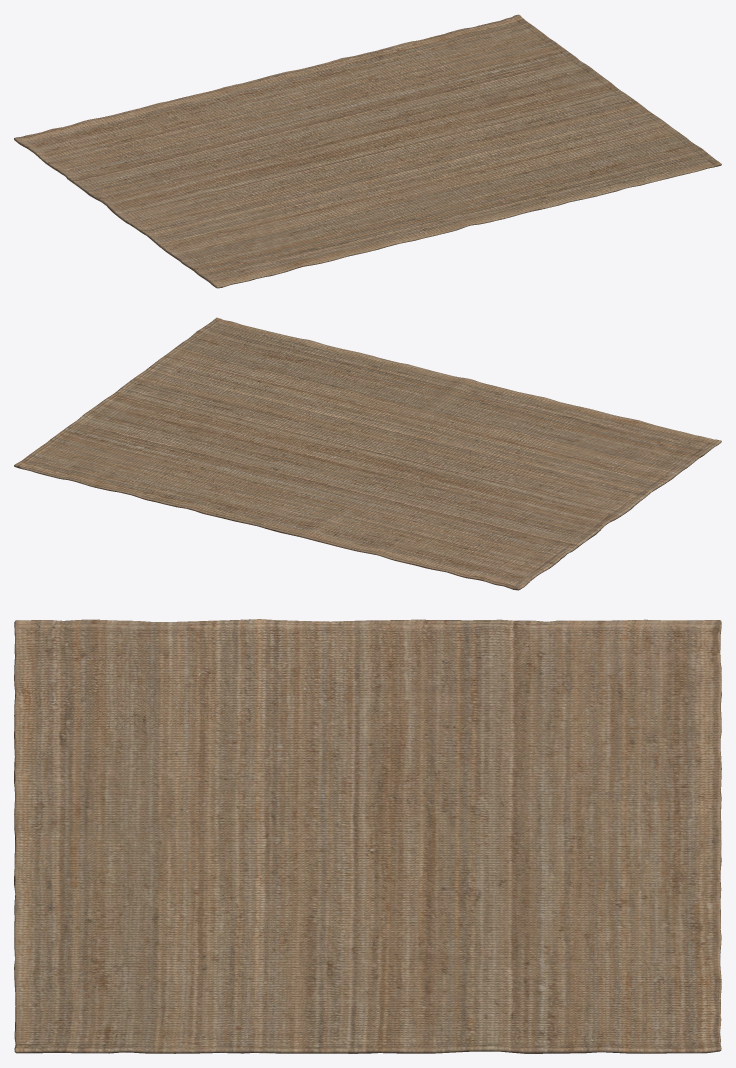
The picture shows the model from 3 angles, top to bottom: view 1: azimuth 30°, elevation 25°; view 2: azimuth 150°, elevation 25°; view 3: azimuth 270°, elevation 25°; orthographic projection. The views are drawn at different scales.
Parts seen in each view (by area): view 1: ASY_ART_50277393_S01_NV01; view 2: ASY_ART_50277393_S01_NV01; view 3: ASY_ART_50277393_S01_NV01.
Part boxes in pixels (x1=…): ASY_ART_50277393_S01_NV01: x1=14, y1=14, x2=721, y2=288; ASY_ART_50277393_S01_NV01: x1=14, y1=317, x2=721, y2=590; ASY_ART_50277393_S01_NV01: x1=14, y1=619, x2=721, y2=1053.
Bounding box in the file's own units: 2.3 × 0.0199 × 1.6.
1 material, 1 textured.
